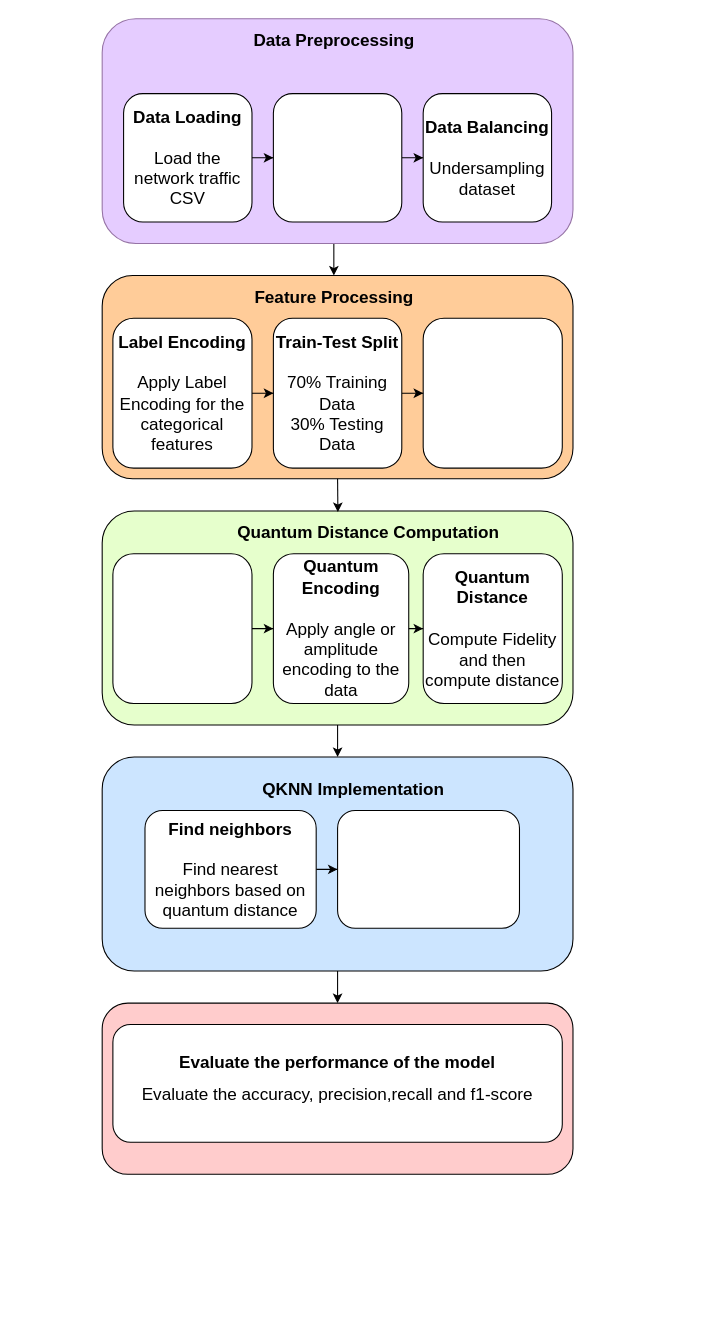
Some shapes in this 707 by 1323 pixel diagram are drawn without their labels. The shapes that lost their labels are listed below. From the top down, each one's centre as x and y in pixels, then its label:
At pixel 337 157: "Handle the data Remove missing values and inf values".
At pixel 492 392: "Feature Scaling Apply feature scaling to the data".
At pixel 182 628: "Choose qubits Create Quantum device and set qubits as required".
At pixel 428 868: "Classification Perform the prediction on the test data".
